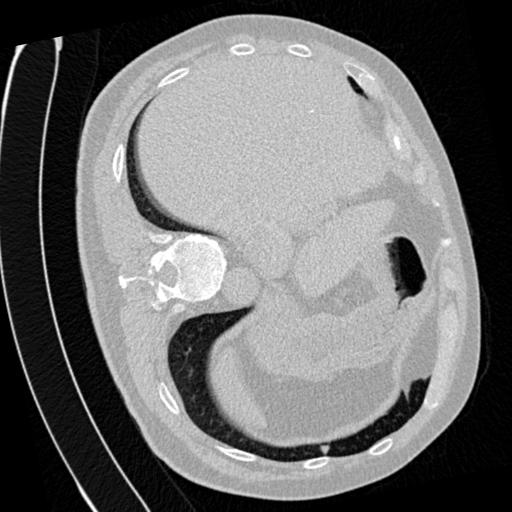nodule: (318, 440, 333, 455)
